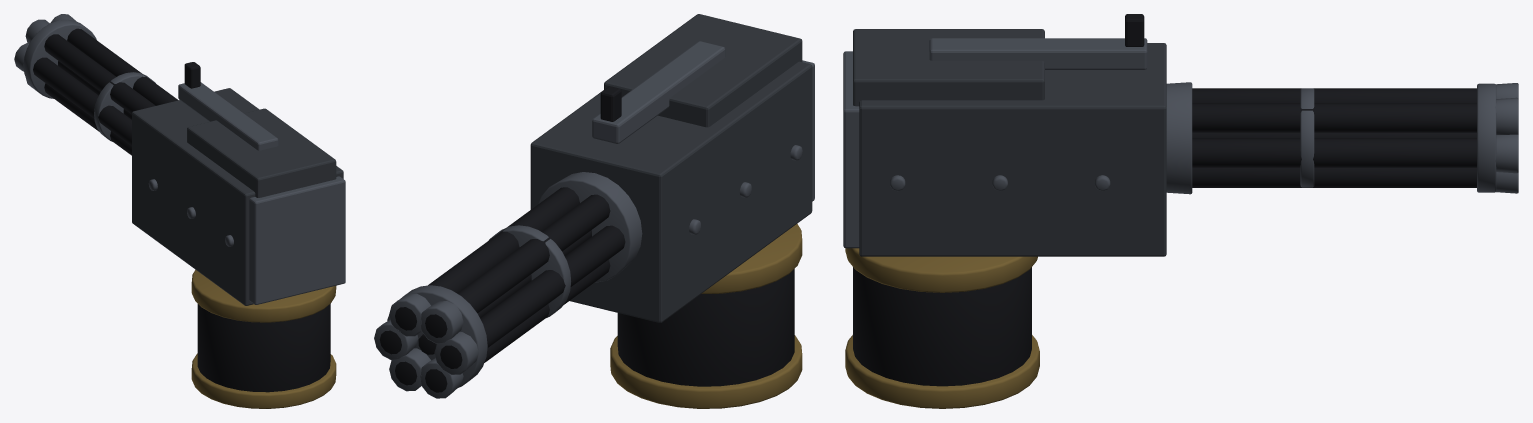
Rendered from minigun.glb.
3 renders of one model, left to right at view 1: azimuth 30°, elevation 25°; view 2: azimuth 150°, elevation 25°; view 3: azimuth 270°, elevation 25°, orthographic. The views are drawn at different scales.
Parts seen in each view (by area): view 1: body, barrels; view 2: body, barrels; view 3: body, barrels.
Part boxes in pixels (<box>): body: <box>132,62,345,408</box>; barrels: <box>14,14,178,155</box>; body: <box>530,14,814,408</box>; barrels: <box>374,172,642,398</box>; body: <box>843,14,1166,408</box>; barrels: <box>1166,82,1518,194</box>.
Bounding box in the file's own units: 0.304 × 0.61 × 1.06.
